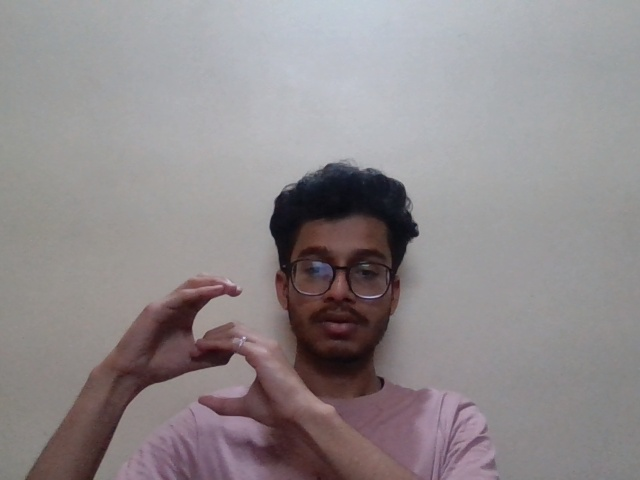S: (89, 266, 304, 434)
